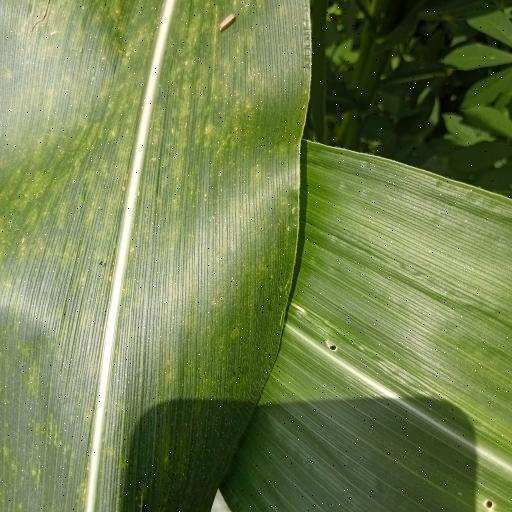Corn_Brown_Spots: (0, 0, 317, 512)
